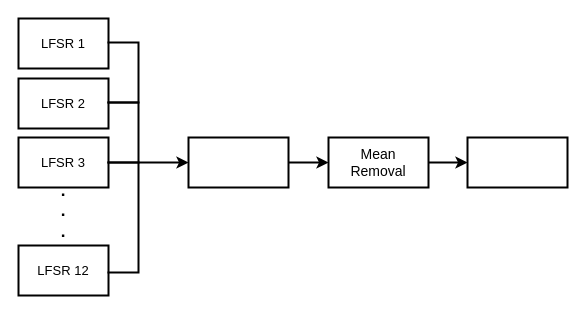
Image size: 585x313. Some labels were removed from this diagram. Each missing label, with the centre of its shape:
Addition: point 238,162
Gaussian: point 517,162
